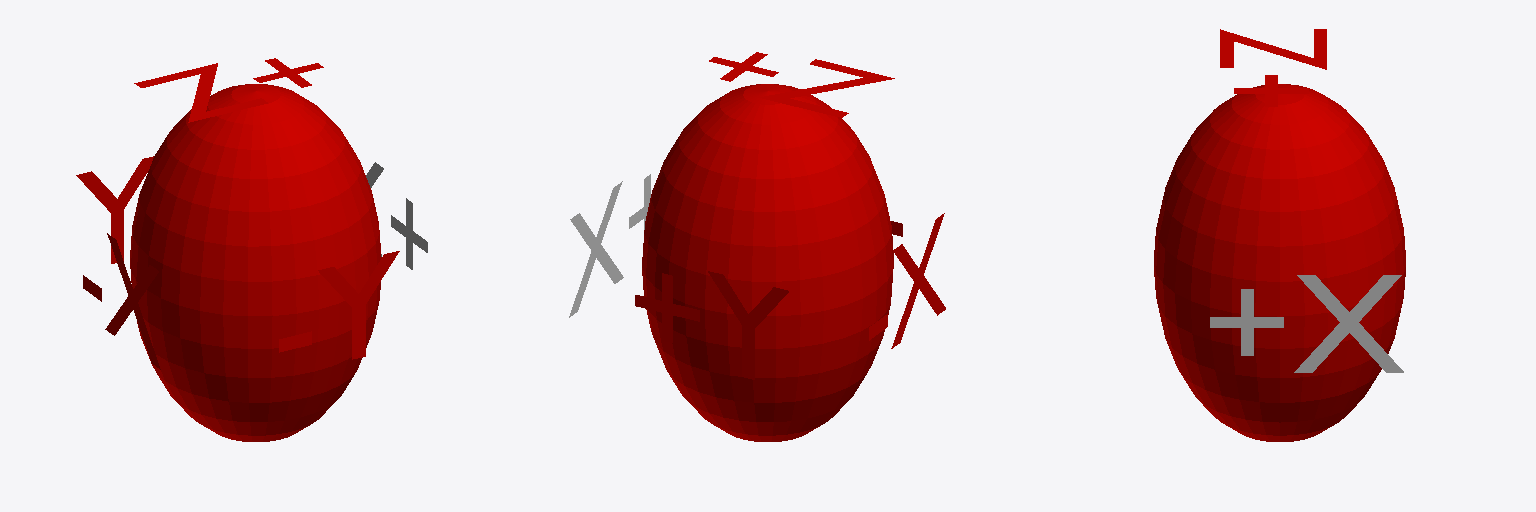
The model's file is axes.obj.
The picture shows the model from 3 angles: view 1: azimuth 30°, elevation 25°; view 2: azimuth 150°, elevation 25°; view 3: azimuth 270°, elevation 25°; orthographic projection.
Parts seen in each view (by area): view 1: Sphere, Text.003, Text.001, Text.002, Text.004, Text; view 2: Sphere, Text.004, Text.001, Text, Text.002; view 3: Sphere, Text, Text.001.
Boxes of the visible parts, x1,y1,x2,y2 form: Sphere: [130, 84, 381, 441]; Text.003: [279, 251, 399, 359]; Text.001: [134, 58, 323, 122]; Text.002: [83, 233, 160, 369]; Text.004: [76, 156, 153, 263]; Text: [366, 162, 427, 269]; Sphere: [642, 84, 893, 441]; Text.004: [635, 271, 788, 379]; Text.001: [709, 52, 894, 117]; Text: [569, 174, 650, 317]; Text.002: [869, 213, 945, 348]; Sphere: [1154, 84, 1405, 441]; Text: [1210, 275, 1403, 372]; Text.001: [1220, 29, 1326, 106].
Size of the model in its own units: 2 by 2.5 by 2.